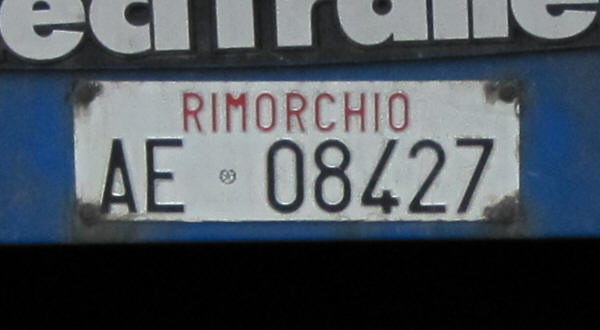license_plate: (71, 80, 521, 225)
